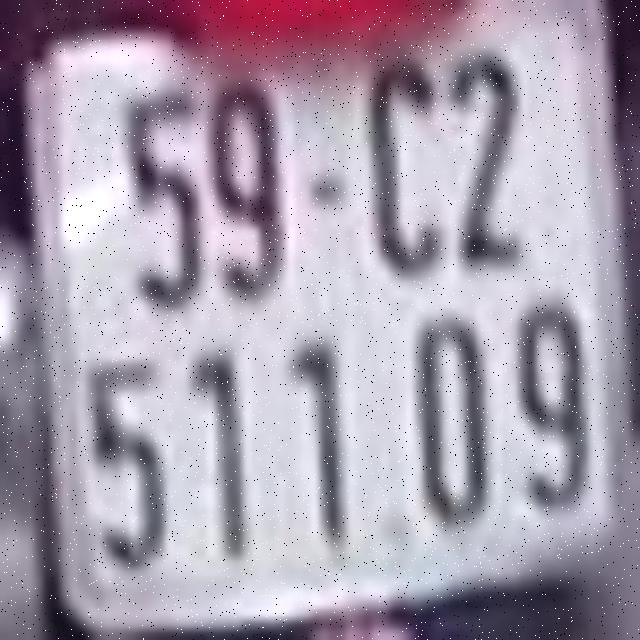0: (413, 308, 492, 527)
1: (286, 334, 357, 552), (188, 348, 256, 561)
2: (449, 49, 530, 272)
5: (83, 355, 171, 573), (123, 88, 204, 311)
9: (209, 78, 287, 304), (514, 300, 591, 514)
C: (367, 55, 442, 275)
